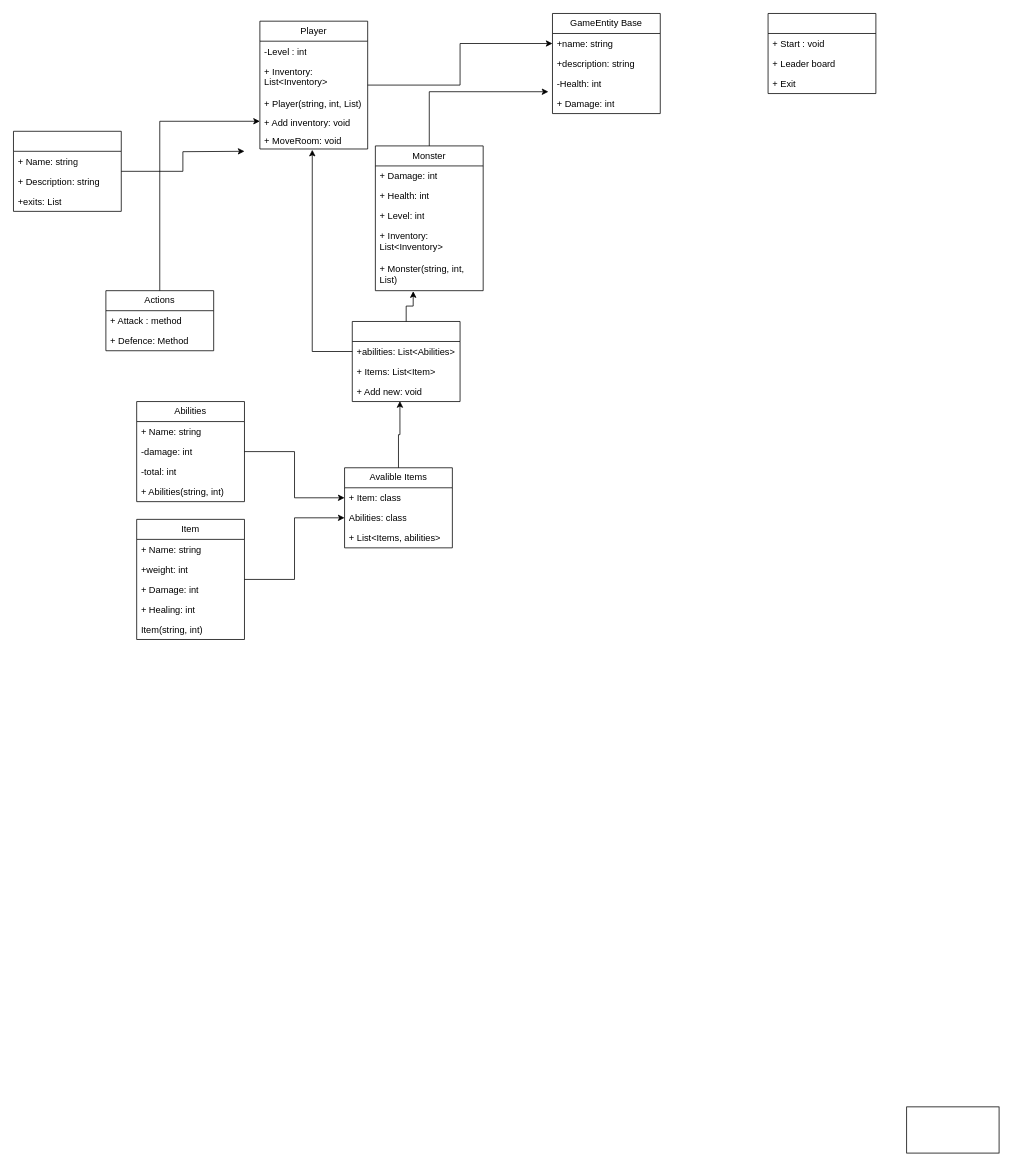
The diagram is 1013 pixels wide and 1167 high, and some of its shapes have lost their labels. Each missing label, with the box of its shape:
GameMenu: (767, 13, 876, 94)
Inventory: (352, 321, 460, 402)
Room: (13, 131, 121, 211)
